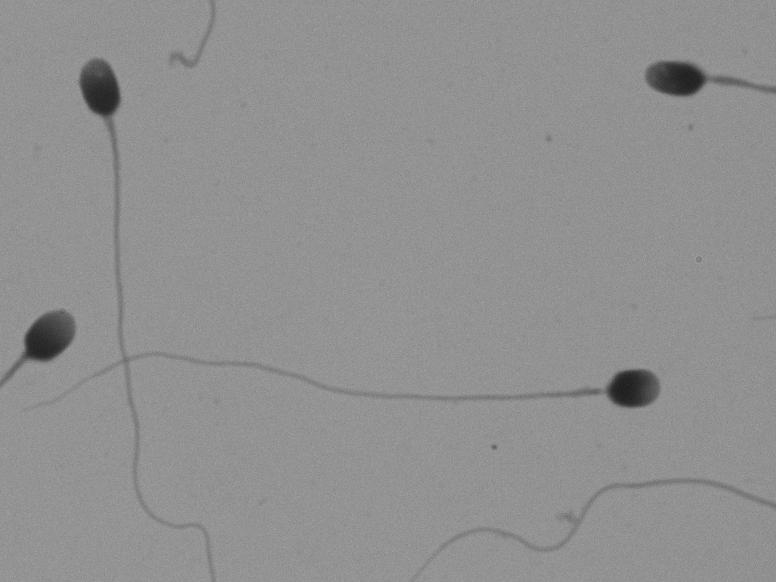Abnormal: (608, 20, 752, 161)
Normal: (83, 297, 690, 463), (74, 45, 221, 567), (7, 247, 92, 423)
